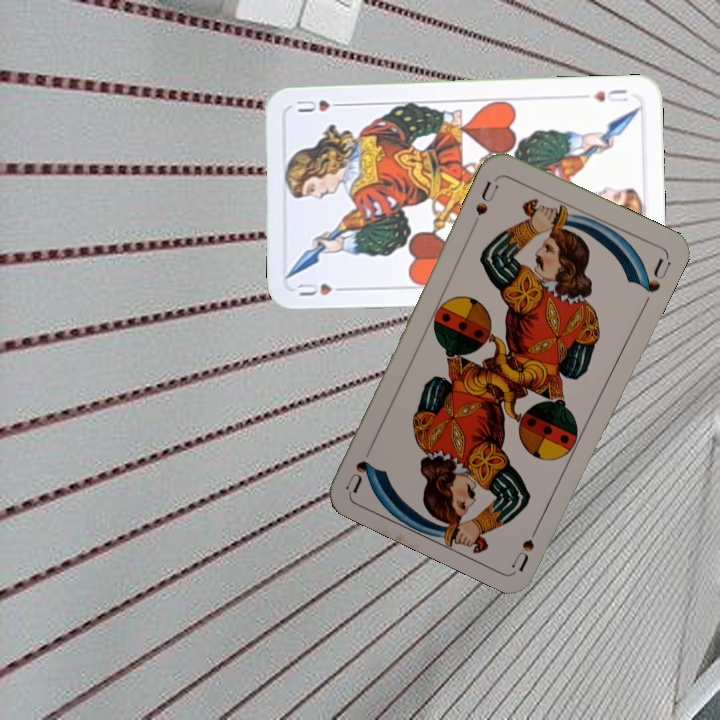HU: (294, 279, 351, 299), (589, 86, 630, 105)
SU: (508, 515, 545, 573), (470, 173, 502, 229)
